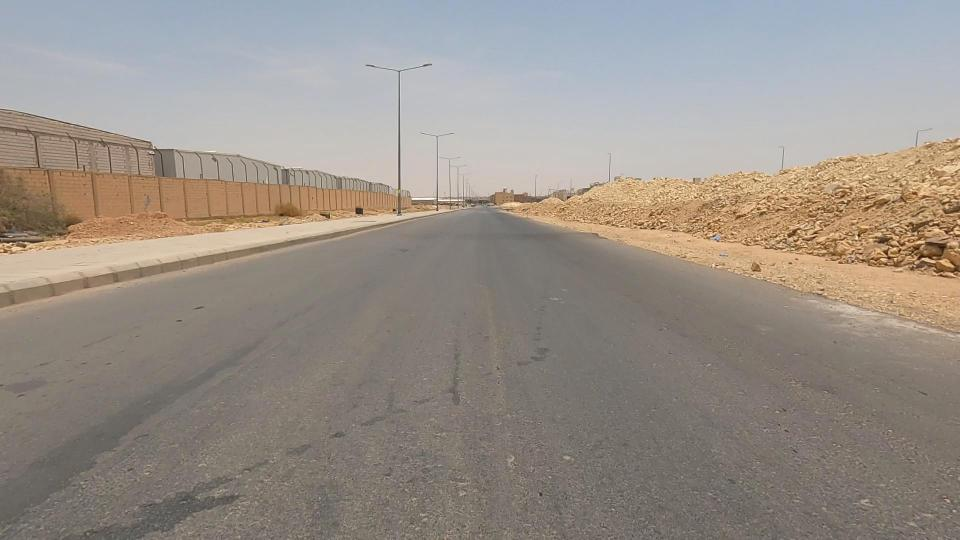GARBAGE: (693, 210, 752, 256), (697, 241, 751, 276)
